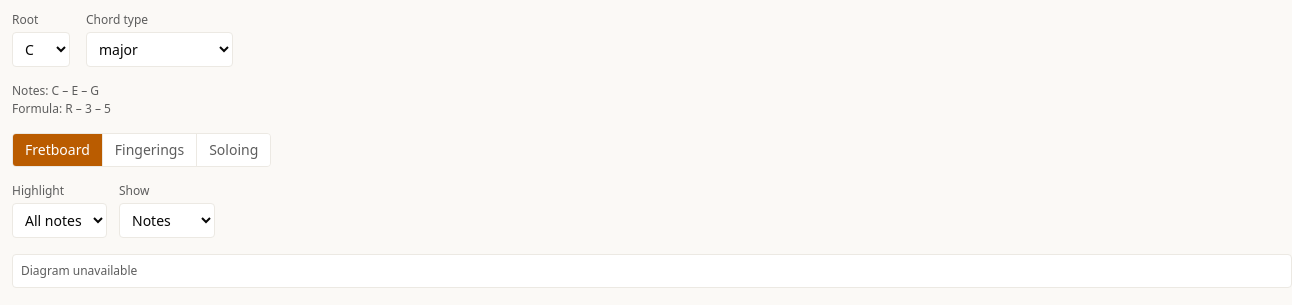
Scenario: ChordPanel › shows formula when a shell chord type is selected
Select "maj7 shell" in the dropdown labelled "Chord type" at (160, 50), box [86, 32, 233, 67]
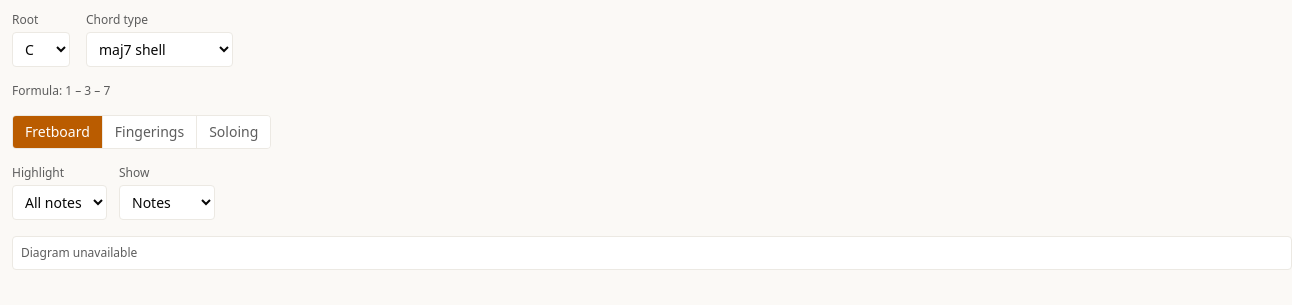
Check: the text "Formula: 1 – 3 – 7" is shown, box [12, 82, 110, 99]
